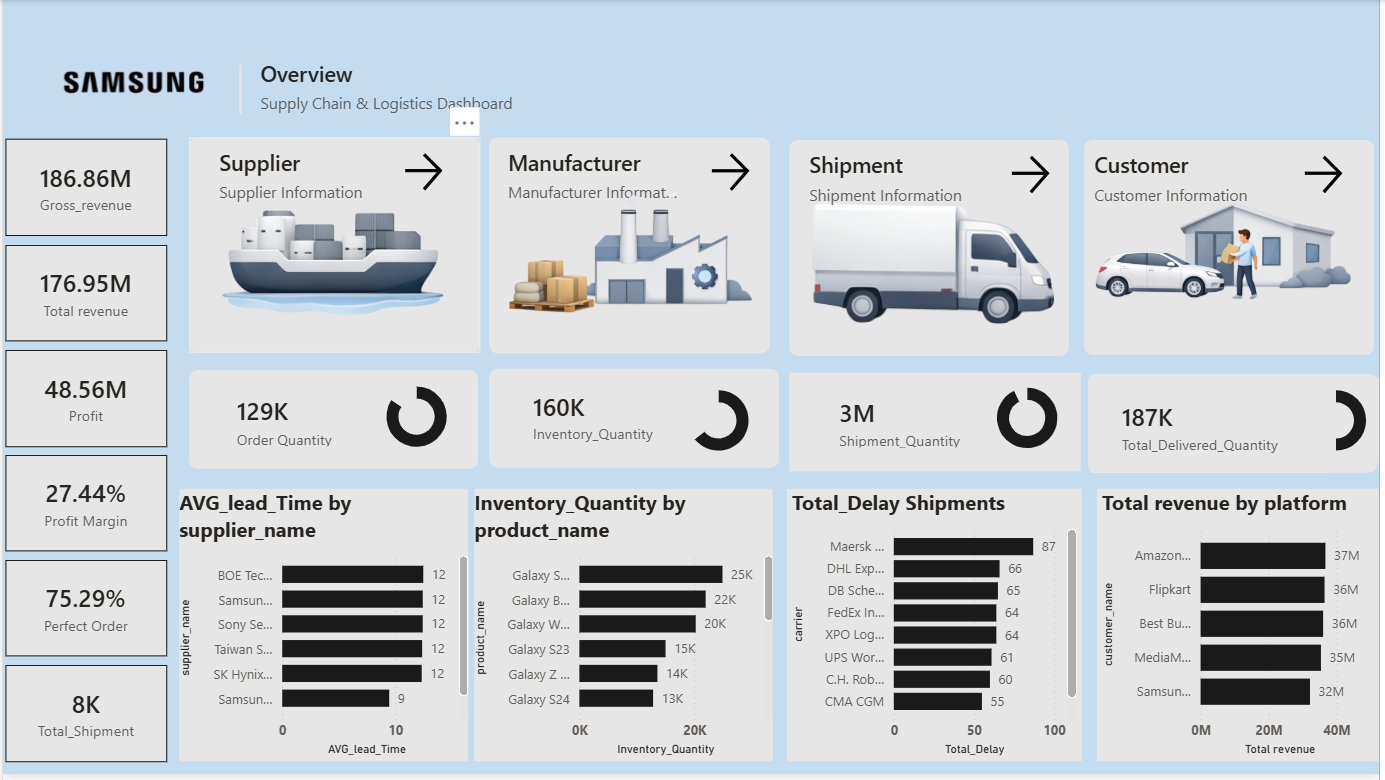

This screenshot's page, from the dashboard's own definition file:
{"tool":"powerbi","page":{"name":"Overview","canvas":[1280,720],"ordinal":1},"visuals":[{"type":"actionButton","title":"Overview","box":[239.5,54.7,239.5,66.3],"z":0},{"type":"shape","box":[173.3,127.9,270.6,200],"z":0,"group":"g13"},{"type":"shape","box":[452.3,343,269.8,91.9],"z":0,"group":"g5"},{"type":"shape","box":[173.3,344.2,268.6,91.9],"z":0,"group":"g4"},{"type":"shape","box":[731.4,346.7,270.9,91.9],"z":0,"group":"g6"},{"type":"shape","box":[1009.1,347.7,268.6,91.9],"z":0,"group":"g7"},{"type":"actionButton","box":[0,0,237.2,152.3],"z":1000},{"type":"shape","box":[1006.2,130.1,269.7,200],"z":1000,"group":"g1"},{"type":"shape","box":[731.4,130.2,260,200.5],"z":1000,"group":"g3"},{"type":"image","box":[181.4,137.2,240.7,190.7],"z":1000,"group":"g13"},{"type":"shape","box":[199,60.4,43.9,45.3],"z":2000},{"type":"shape","box":[452.2,127.9,261,200.5],"z":2000,"group":"g2"},{"type":"group","id":"g1","title":"Group 1","box":[1006,130.1,270,200],"z":3000},{"type":"actionButton","title":"Supplier","box":[201.4,137.2,151.4,54.7],"z":3000,"group":"g13"},{"type":"image","box":[731.4,139.1,260,191.6],"z":3000,"group":"g3"},{"type":"group","id":"g2","title":"Group 2","box":[445.2,127.9,276.7,201.2],"z":4000},{"type":"image","box":[445.2,128.8,260.5,200],"z":5000,"group":"g11"},{"type":"group","id":"g3","title":"Group 3","box":[731.4,130.2,269.8,200],"z":5000},{"type":"actionButton","box":[908.6,139.1,93,45.7],"z":5000,"group":"g3"},{"type":"image","box":[1006,130.1,270,199.5],"z":7000,"group":"g1"},{"type":"actionButton","title":"Shipment","box":[750.5,139.1,158,60.9],"z":7000,"group":"g3"},{"type":"cardVisual","fields":{"Data":["MeasuresTable.Total revenue"]},"box":[2.3,227.7,150,89.5],"z":7000},{"type":"cardVisual","fields":{"Data":["MeasuresTable.Profit"]},"box":[2.5,325.1,150,90.7],"z":8000},{"type":"actionButton","box":[628.8,136.8,93.4,45.7],"z":9000,"group":"g11"},{"type":"cardVisual","fields":{"Data":["MeasuresTable.Total_Shipment"]},"box":[2.3,618.6,150,90.7],"z":9000},{"type":"cardVisual","fields":{"Data":["MeasuresTable.Perfect_Order %"]},"box":[2.3,521.2,150,89.5],"z":10000},{"type":"actionButton","box":[1179.4,139,96.5,45.6],"z":11000,"group":"g1"},{"type":"cardVisual","fields":{"Data":["MeasuresTable.Profit Margin %"]},"box":[2.3,423.7,150,89.5],"z":11000},{"type":"cardVisual","fields":{"Data":["Sum(fact_sales.gross_revenue)"]},"box":[2.3,129.1,150,90.7],"z":12000},{"type":"actionButton","title":"Manufacturer","box":[470.1,136.8,158.7,60.9],"z":13000,"group":"g2"},{"type":"group","id":"g4","title":"Group 4","box":[173.3,344.2,268.6,91.9],"z":13000,"group":"g8"},{"type":"clusteredBarChart","fields":{"Y":["MeasuresTable.AVG_lead_Time"],"Category":["dim_supplier.supplier_name"]},"box":[163.7,454.7,268.6,253.5],"z":13000},{"type":"group","id":"g5","title":"Group 4","box":[452.3,343,269.8,91.9],"z":14000,"group":"g9"},{"type":"clusteredBarChart","fields":{"Y":["MeasuresTable.Inventory_Quantity"],"Category":["dim_product.product_name"]},"box":[438.1,454.7,277.9,253.5],"z":14000},{"type":"actionButton","title":"Customer","box":[1015.5,139,163.9,60.8],"z":15000,"group":"g1"},{"type":"group","id":"g6","title":"Group 4","box":[731.4,346.7,270.9,91.9],"z":15000,"group":"g10"},{"type":"clusteredBarChart","title":"Total_Delay Shipments","fields":{"Y":["MeasuresTable.Total_Delay"],"Category":["fact_shipment.carrier"]},"box":[728.8,454.5,274.4,253.5],"z":15000},{"type":"group","id":"g7","title":"Group 4","box":[1009.1,347.7,268.6,91.9],"z":16000,"group":"g12"},{"type":"clusteredBarChart","title":"Total revenue by platform","fields":{"Category":["dim_customer.customer_name"],"Y":["MeasuresTable.Total revenue"]},"box":[1017.2,454.5,262.8,253.5],"z":16000},{"type":"group","id":"g8","title":"Group 7","box":[173.3,344.2,268.6,91.9],"z":17000},{"type":"cardVisual","fields":{"Data":["MeasuresTable.Order_QTY"]},"box":[188.4,351.2,161.6,81.4],"z":17000,"group":"g8"},{"type":"group","id":"g9","title":"Group 8","box":[452.3,343,269.8,91.9],"z":18000},{"type":"cardVisual","fields":{"Data":["MeasuresTable.Total_Delivered_Quantity"]},"box":[1011.5,353.5,220.2,86],"z":18000,"group":"g12"},{"type":"group","id":"g10","title":"Group 9","box":[731.4,346.7,270.9,91.9],"z":19000},{"type":"cardVisual","fields":{"Data":["MeasuresTable.Total_Shipment_Quantity"]},"box":[749,352.5,204.7,81.4],"z":19000,"group":"g10"},{"type":"cardVisual","fields":{"Data":["MeasuresTable.Inventory_value"]},"box":[463.5,343,182.5,88.4],"z":20000,"group":"g9"},{"type":"donutChart","fields":{"Y":["MeasuresTable.Total_Shipment","MeasuresTable.Total_Delay"]},"box":[912.8,348.8,80.2,80.2],"z":20000},{"type":"group","id":"g11","title":"Group 5","box":[445.2,128.8,277,200],"z":20005,"group":"g2"},{"type":"group","id":"g12","title":"Group 10","box":[1009.1,347.7,268.6,91.9],"z":21000},{"type":"donutChart","fields":{"Y":["MeasuresTable.Inventory_Quantity","MeasuresTable.Safety_Stock"]},"box":[625.6,351.2,80.2,80.2],"z":22000},{"type":"donutChart","fields":{"Y":["MeasuresTable.Total_Delivered_Quantity","MeasuresTable.Total_QTY_Delay"]},"box":[1200,351.2,80.2,80.2],"z":22500},{"type":"donutChart","fields":{"Y":["MeasuresTable.Order Quantity","MeasuresTable.Defect_Rate"]},"box":[344.2,347.7,81.4,80.2],"z":23000},{"type":"group","id":"g13","title":"Group 6","box":[173.3,127.9,270.6,200],"z":24001,"group":"g14"},{"type":"actionButton","box":[343.1,137.2,94.2,45.3],"z":24501,"group":"g14"},{"type":"group","id":"g14","title":"Group 11","box":[173.3,127.9,270.6,200],"z":24502}]}

Visuals, with their boxes in screenshot pixels (x1, y1, x2, y2), scaled from the page's 1280x720 canvas onto the 1385x780 screenshot:
"Overview" actionButton: 259:59:518:131
shape: 188:139:480:355
shape: 489:372:781:471
shape: 188:373:478:472
shape: 791:376:1085:475
shape: 1092:377:1383:476
actionButton: 0:0:257:165
shape: 1089:141:1381:358
shape: 791:141:1073:358
image: 196:149:457:355
shape: 215:65:263:115
shape: 489:139:772:356
"Group 1" group: 1089:141:1381:358
"Supplier" actionButton: 218:149:382:208
image: 791:151:1073:358
"Group 2" group: 482:139:781:357
image: 482:140:764:356
"Group 3" group: 791:141:1083:358
actionButton: 983:151:1084:200
image: 1089:141:1381:357
"Shipment" actionButton: 812:151:983:217
cardVisual - MeasuresTable.Total revenue: 2:247:165:344
cardVisual - MeasuresTable.Profit: 3:352:165:450
actionButton: 680:148:781:198
cardVisual - MeasuresTable.Total_Shipment: 2:670:165:768
cardVisual - MeasuresTable.Perfect_Order %: 2:565:165:662
actionButton: 1276:151:1381:200
cardVisual - MeasuresTable.Profit Margin %: 2:459:165:556
cardVisual - Sum(fact_sales.gross_revenue): 2:140:165:238
"Manufacturer" actionButton: 509:148:680:214
"Group 4" group: 188:373:478:472
clusteredBarChart - MeasuresTable.AVG_lead_Time x dim_supplier.supplier_name: 177:493:468:767
"Group 4" group: 489:372:781:471
clusteredBarChart - MeasuresTable.Inventory_Quantity x dim_product.product_name: 474:493:775:767
"Customer" actionButton: 1099:151:1276:216
"Group 4" group: 791:376:1085:475
"Total_Delay Shipments" clusteredBarChart: 789:492:1085:767
"Group 4" group: 1092:377:1383:476
"Total revenue by platform" clusteredBarChart: 1101:492:1384:767
"Group 7" group: 188:373:478:472
cardVisual - MeasuresTable.Order_QTY: 204:380:379:469
"Group 8" group: 489:372:781:471
cardVisual - MeasuresTable.Total_Delivered_Quantity: 1094:383:1333:476
"Group 9" group: 791:376:1085:475
cardVisual - MeasuresTable.Total_Shipment_Quantity: 810:382:1032:470
cardVisual - MeasuresTable.Inventory_value: 502:372:699:467
donutChart - MeasuresTable.Total_Shipment x MeasuresTable.Total_Delay: 988:378:1074:465
"Group 5" group: 482:140:781:356
"Group 10" group: 1092:377:1383:476
donutChart - MeasuresTable.Inventory_Quantity x MeasuresTable.Safety_Stock: 677:380:764:467
donutChart - MeasuresTable.Total_Delivered_Quantity x MeasuresTable.Total_QTY_Delay: 1298:380:1384:467
donutChart - MeasuresTable.Order Quantity x MeasuresTable.Defect_Rate: 372:377:461:464
"Group 6" group: 188:139:480:355
actionButton: 371:149:473:198
"Group 11" group: 188:139:480:355
